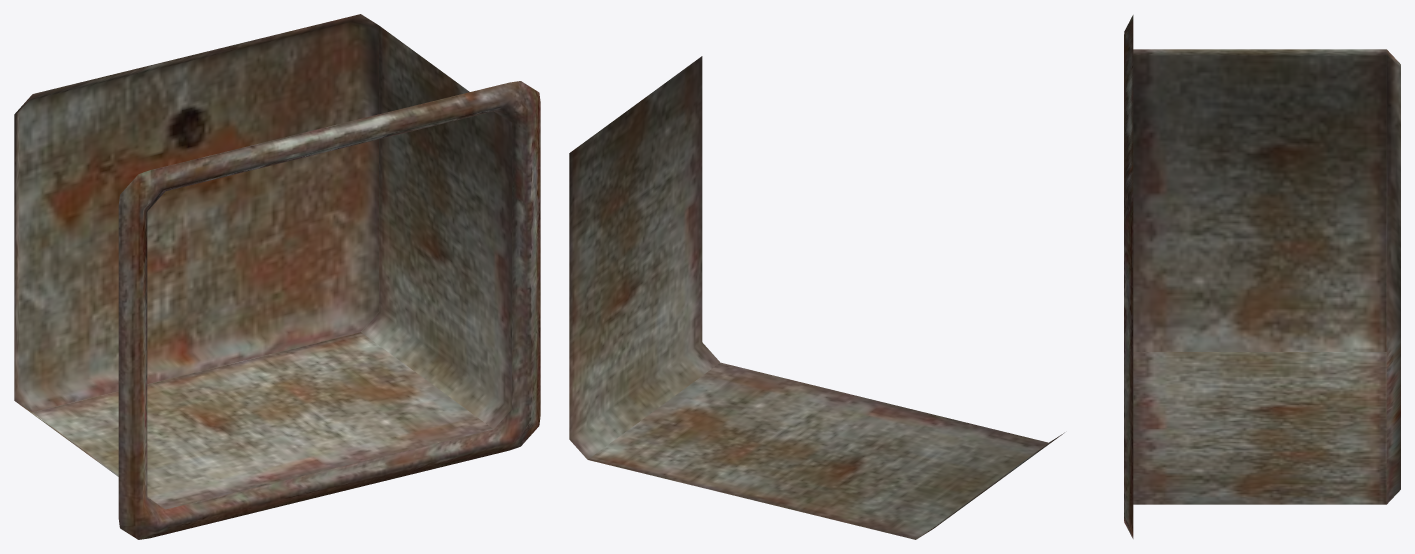
The model's file is prop_kitchen_sink01.glb.
3 views of the same model, side by side, from view 1: azimuth 30°, elevation 25°; view 2: azimuth 150°, elevation 25°; view 3: azimuth 270°, elevation 25° (orthographic). The views are drawn at different scales.
Bounding box in the file's own units: 34.71 × 28.92 × 20.7.
1 material, 1 textured.
